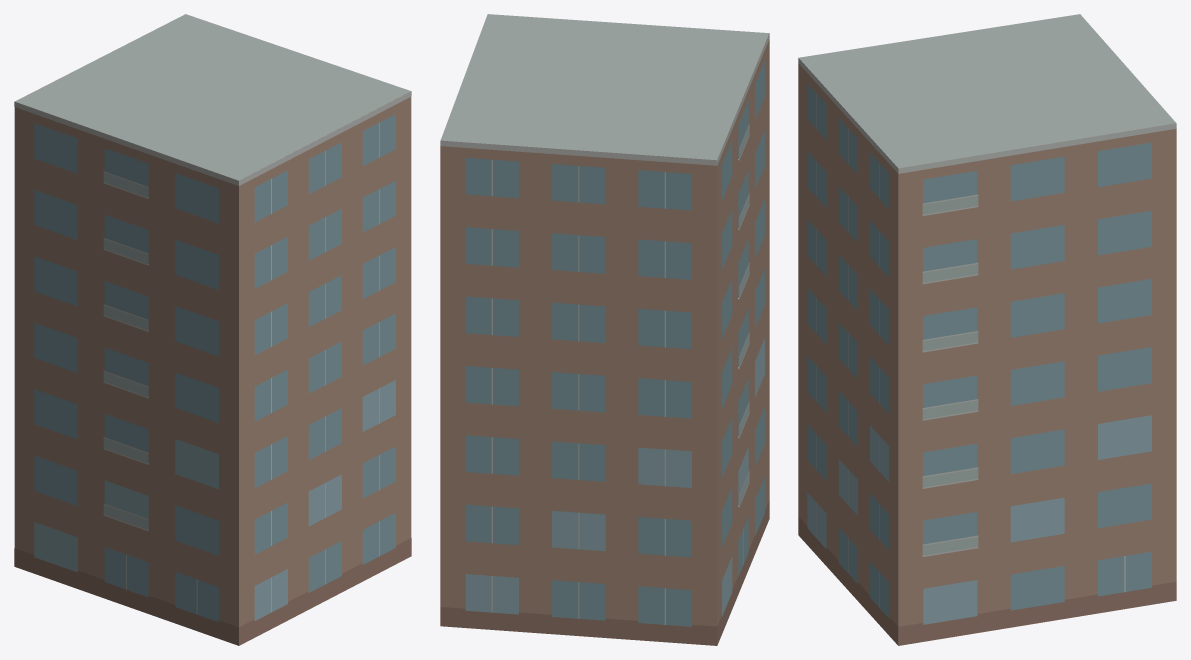
The model's file is survey-upis-32838928.glb.
The picture shows the model from 3 angles, left to right: view 1: azimuth 30°, elevation 25°; view 2: azimuth 150°, elevation 25°; view 3: azimuth 270°, elevation 25°; orthographic projection. The views are drawn at different scales.
Visible parts, largest first — view 1: survey-upis-32838928.tmp; view 2: survey-upis-32838928.tmp; view 3: survey-upis-32838928.tmp.
Boxes of the visible parts, box(x1,y1,x2,y2) form: survey-upis-32838928.tmp: box(14, 14, 411, 645); survey-upis-32838928.tmp: box(440, 14, 769, 645); survey-upis-32838928.tmp: box(798, 14, 1176, 645).
Bounding box in the file's own units: 14.82 × 21.35 × 15.34.
